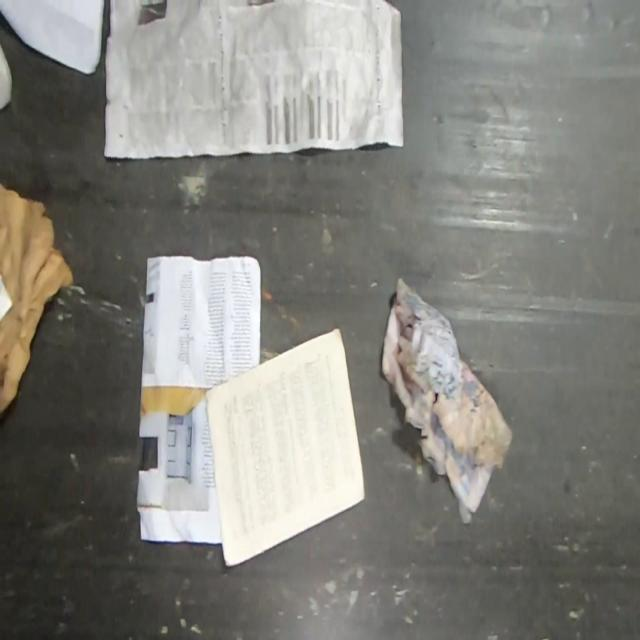cardboard: (0, 182, 73, 422)
